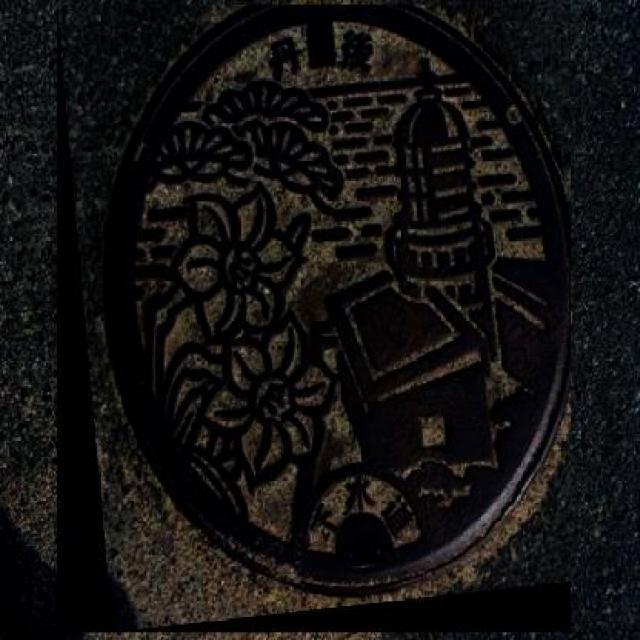Manhole: (58, 5, 572, 632)
